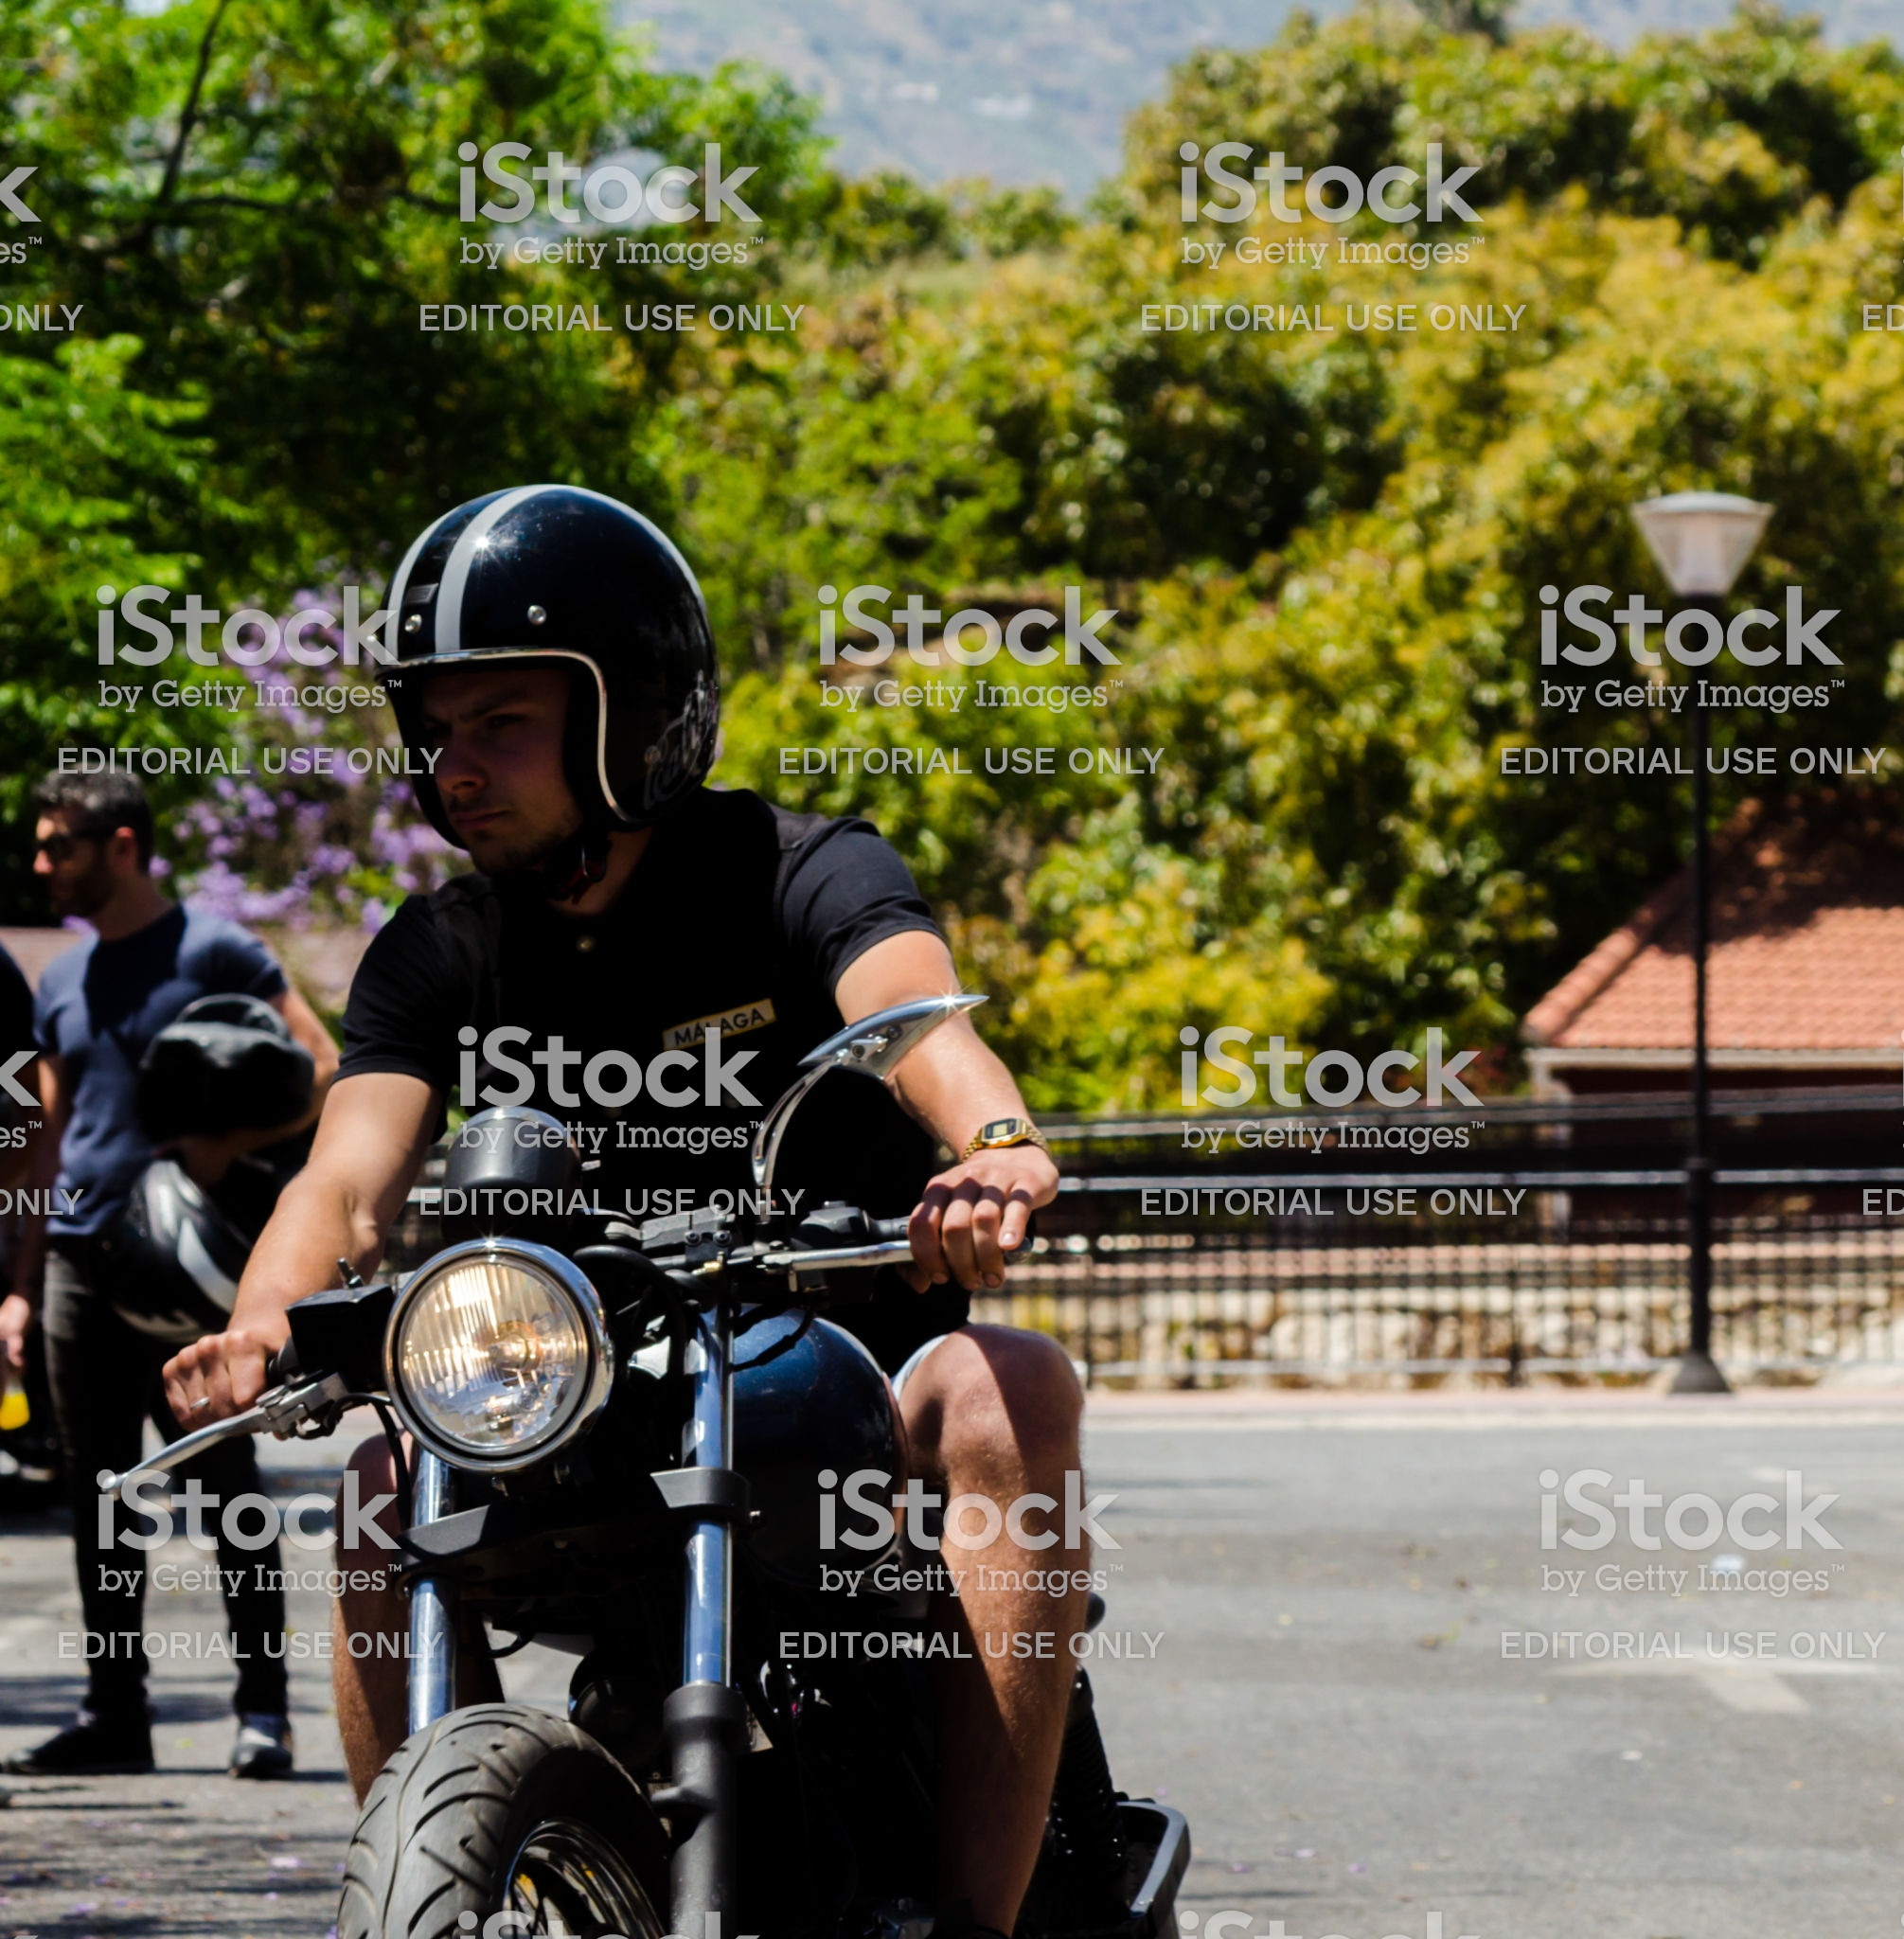helmet: (380, 486, 736, 814)
